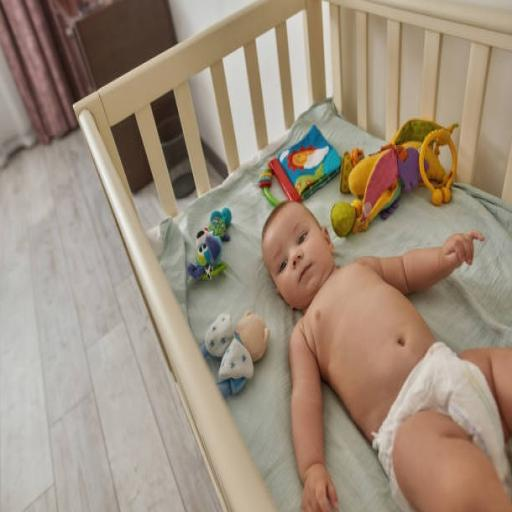baby: (262, 202, 511, 511)
crib: (75, 0, 511, 510)
